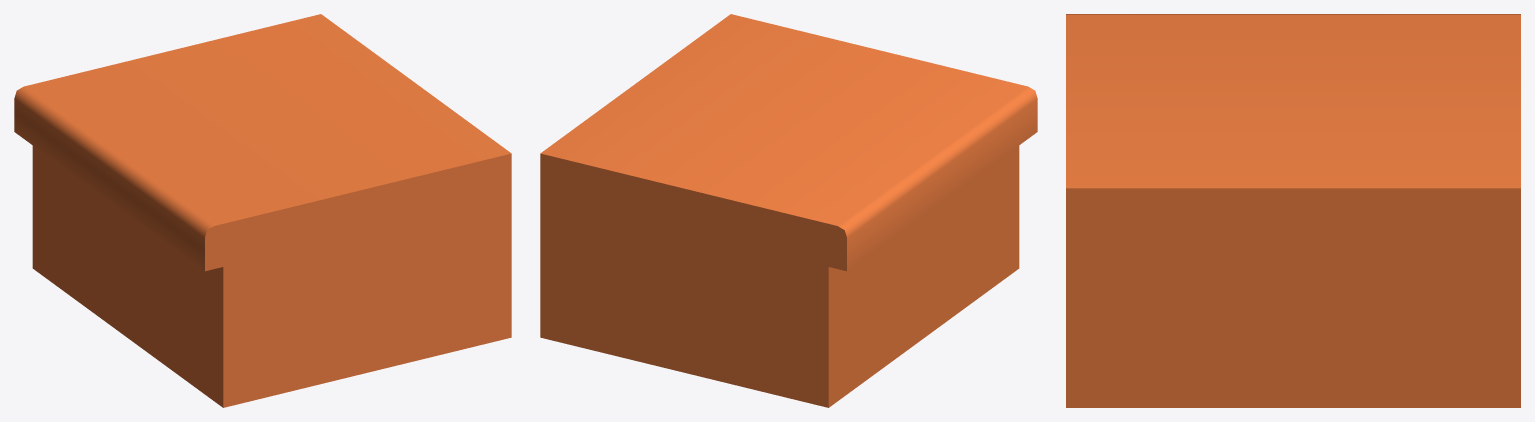
The model's file is ban1 new.FBX.
3 renders of one model, left to right at view 1: azimuth 30°, elevation 25°; view 2: azimuth 150°, elevation 25°; view 3: azimuth 270°, elevation 25°, orthographic. The views are drawn at different scales.
Parts seen in each view (by area): view 1: Object409; view 2: Object409; view 3: Object409.
Part boxes in pixels (box(x1,y1,x2,y2)): Object409: box(14, 14, 511, 407); Object409: box(540, 14, 1037, 407); Object409: box(1066, 14, 1520, 407).
Bounding box in the file's own units: 2.21 × 1.27 × 2.38.
